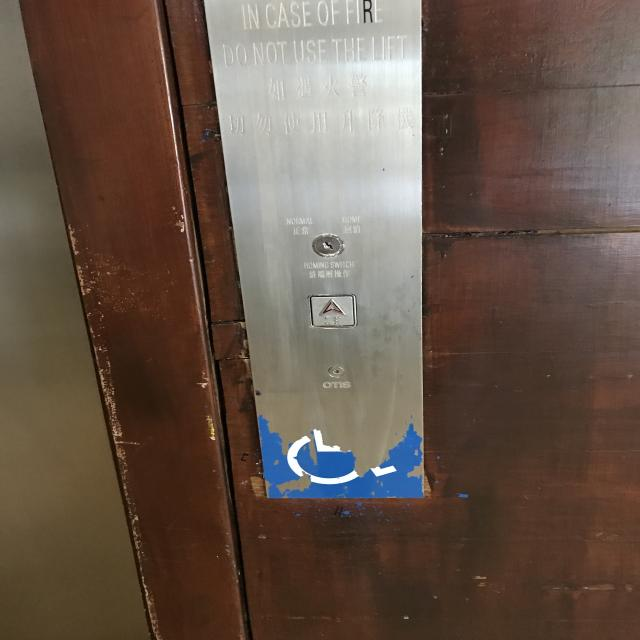keyhole: (306, 229, 348, 261)
up: (306, 291, 361, 331)
